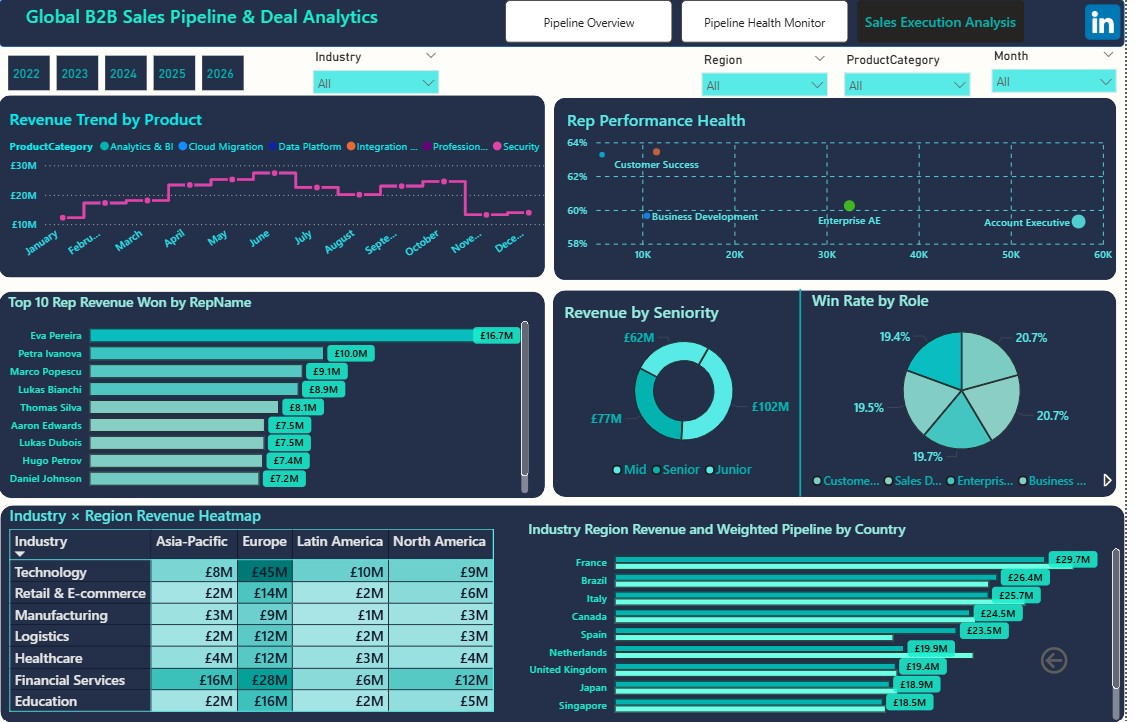

What the dashboard file says about the page in this screenshot:
{"tool":"powerbi","page":{"name":"Sales Execution Analysis","canvas":[1300,850],"ordinal":2},"visuals":[{"type":"shape","box":[0,0,1300,55.6],"z":0},{"type":"shape","box":[0,110.9,630.6,210.7],"z":1000},{"type":"textbox","box":[0,0,480.6,56.9],"z":2000},{"type":"shape","box":[641.3,114.3,649.4,210.7],"z":3000},{"type":"ZoomChartsDrillDownComboBarPin97DBCD4437824A7F9FD60ECD8939CE","title":" Revenue Trend by Product","fields":{"Category":["Calendar.Year","Calendar.Quarter","Calendar.MonthName"],"Values1":["meausure table.Revenue closed"],"Values2":["meausure table.Industry Region Revenue"]},"box":[7.2,125.3,629.4,184.8],"z":4000},{"type":"scatterChart","title":"Rep Performance Health ","fields":{"X":["meausure table.Rep Activity Count"],"Y":["meausure table.Rep Win Rate"],"Size":["meausure table.Rep Revenue Won"],"Series":["DimSalesRep.Role"]},"box":[650.7,126.8,640,185.8],"z":5000},{"type":"shape","box":[0,337.2,630.6,238.8],"z":6000},{"type":"clusteredBarChart","title":"Top 10 Rep Revenue Won by RepName","fields":{"Category":["DimSalesRep.RepName"],"Y":["meausure table.Rep Revenue Won"]},"box":[5.8,337.8,610.7,238.2],"z":7000},{"type":"shape","box":[639,336,650.9,238.8],"z":8000},{"type":"shape","box":[0.7,585,1298.8,252.9],"z":9000},{"type":"pivotTable","title":"Industry × Region Revenue Heatmap","fields":{"Rows":["DimCompany.Industry"],"Columns":["DimCompany.Region"],"Values":["meausure table.Industry Region Revenue"]},"box":[7,585,585.4,252.9],"z":10000},{"type":"actionButton","box":[1198.4,743.2,100.5,40.8],"z":11000},{"type":"donutChart","title":"Revenue by Seniority","fields":{"Category":["DimSalesRep.Seniority"],"Y":["meausure table.Rep Revenue Won"]},"box":[648.3,348.5,285.7,215.4],"z":12000},{"type":"pieChart","title":"Win Rate by Role","fields":{"Category":["DimSalesRep.Role"],"Y":["meausure table.Win Rate %"]},"box":[934,336,355.9,238.8],"z":13000},{"type":"shape","box":[916.7,334.9,17.3,239.6],"z":14000},{"type":"ZoomChartsDrillDownComboBarPin97DBCD4437824A7F9FD60ECD8939CE","fields":{"Category":["DimCompany.Country"],"Values2":["meausure table.Weighted Pipeline"],"Values1":["meausure table.Industry Region Revenue"]},"box":[606.4,600.6,693.1,237.3],"z":15000},{"type":"pageNavigator","box":[584.8,1.4,599.4,50],"z":16000},{"type":"image","box":[1248,1.4,52,50.5],"z":17000},{"type":"advancedSlicerVisual","fields":{"Values":["Calendar.Year"]},"box":[5.8,60.6,285.8,50.5],"z":18000},{"type":"slicer","fields":{"Values":["Calendar.MonthName"]},"box":[1136.1,52,164.6,62.1],"z":19000},{"type":"slicer","fields":{"Values":["FactActivities.ProductCategory"]},"box":[965.8,56.3,166,60.6],"z":20000},{"type":"slicer","fields":{"Values":["DimCompany.Region"]},"box":[801.2,56.3,166,60.6],"z":21000},{"type":"slicer","fields":{"Values":["DimCompany.Industry"]},"box":[352.2,53.4,166,60.6],"z":22000}]}

Visuals, with their boxes in screenshot pixels (x1, y1, x2, y2), scaled from the page's 1300x850 canvas onto the 1135x722 screenshot:
shape: locate(0, 0, 1134, 47)
shape: locate(0, 94, 551, 273)
textbox: locate(0, 0, 420, 48)
shape: locate(560, 97, 1127, 276)
" Revenue Trend by Product" ZoomChartsDrillDownComboBarPin97DBCD4437824A7F9FD60ECD8939CE: locate(6, 106, 556, 263)
"Rep Performance Health " scatterChart: locate(568, 108, 1127, 266)
shape: locate(0, 286, 551, 489)
"Top 10 Rep Revenue Won by RepName" clusteredBarChart: locate(5, 287, 538, 489)
shape: locate(558, 285, 1126, 488)
shape: locate(1, 497, 1134, 712)
"Industry × Region Revenue Heatmap" pivotTable: locate(6, 497, 517, 712)
actionButton: locate(1046, 631, 1134, 666)
"Revenue by Seniority" donutChart: locate(566, 296, 815, 479)
"Win Rate by Role" pieChart: locate(815, 285, 1126, 488)
shape: locate(800, 284, 815, 488)
ZoomChartsDrillDownComboBarPin97DBCD4437824A7F9FD60ECD8939CE - DimCompany.Country x meausure table.Weighted Pipeline: locate(529, 510, 1134, 712)
pageNavigator: locate(511, 1, 1034, 44)
image: locate(1090, 1, 1134, 44)
advancedSlicerVisual - Calendar.Year: locate(5, 51, 255, 94)
slicer - Calendar.MonthName: locate(992, 44, 1134, 97)
slicer - FactActivities.ProductCategory: locate(843, 48, 988, 99)
slicer - DimCompany.Region: locate(700, 48, 844, 99)
slicer - DimCompany.Industry: locate(307, 45, 452, 97)
